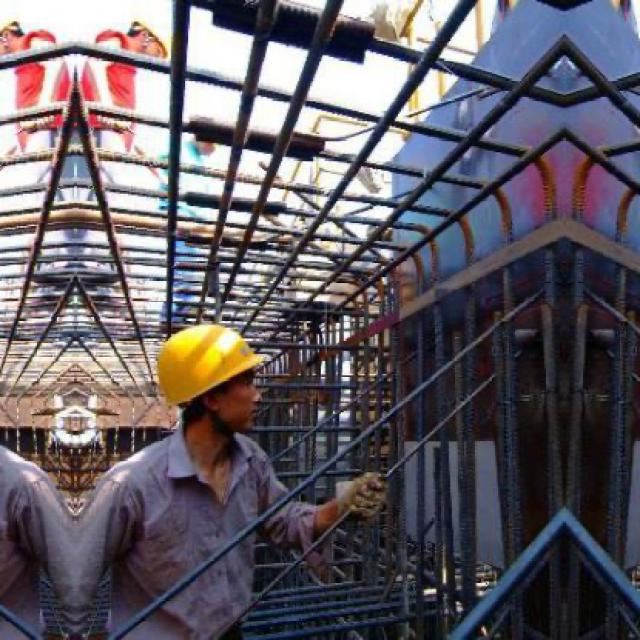2: (79, 322, 390, 638), (77, 6, 187, 303), (2, 321, 73, 640), (2, 5, 74, 303), (156, 112, 231, 318)
helmet: (150, 316, 274, 436), (126, 14, 184, 71), (2, 12, 24, 71)
